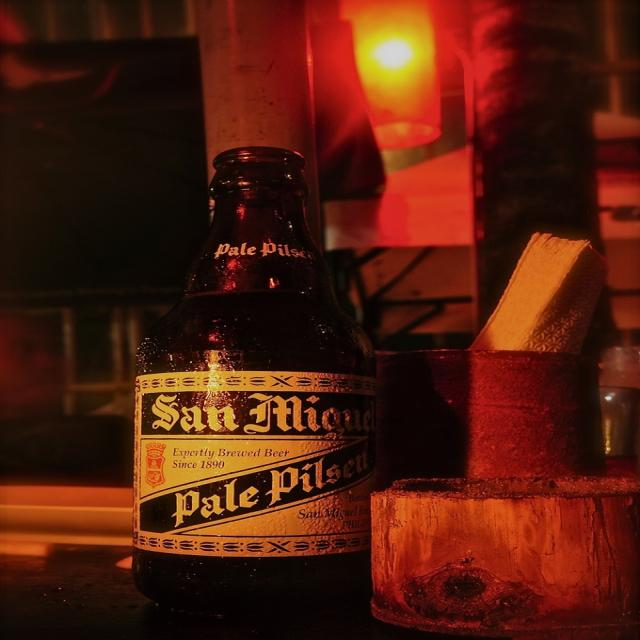Bottle: (133, 138, 387, 605)
